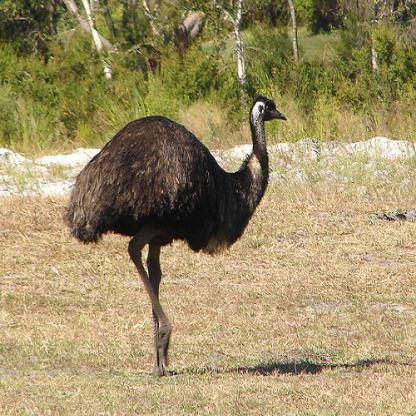bird: (63, 98, 286, 380)
